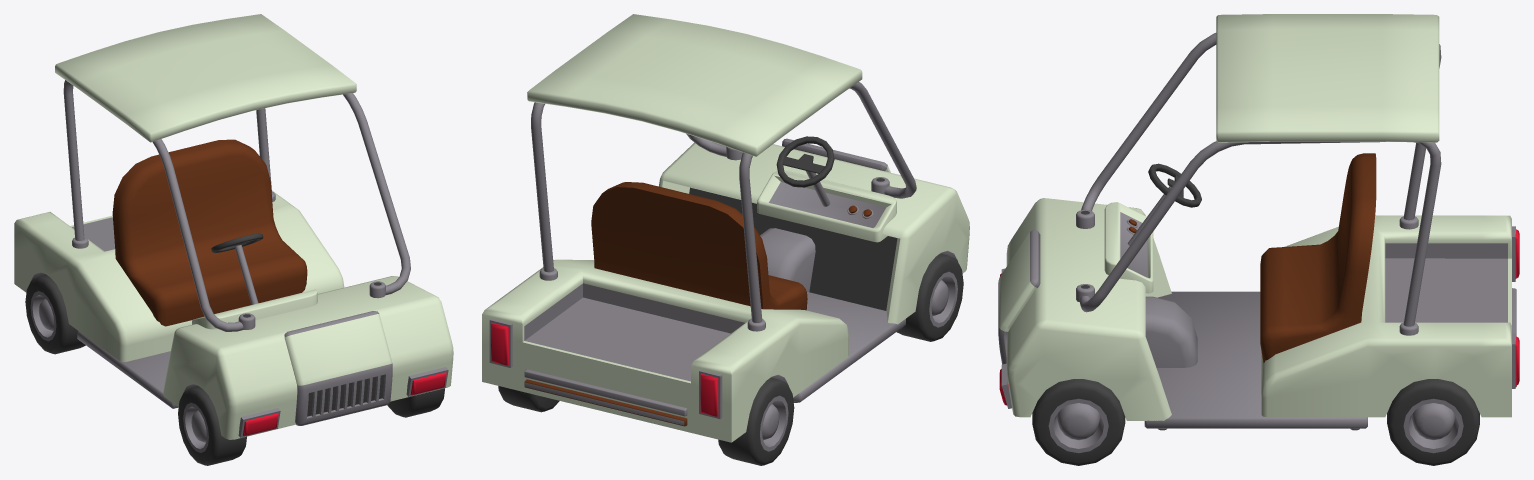
Rendered from golf-cart.glb.
3 views of the same model, side by side, from view 1: azimuth 30°, elevation 25°; view 2: azimuth 150°, elevation 25°; view 3: azimuth 270°, elevation 25° (orthographic). The views are drawn at different scales.
Visible parts, largest first — view 1: cart; view 2: cart; view 3: cart.
Boxes of the visible parts, x1=… form: cart: x1=14, y1=14, x2=453, y2=465; cart: x1=482, y1=14, x2=969, y2=465; cart: x1=998, y1=14, x2=1519, y2=465.
Size of the model in its own units: 1.49 by 1.8 by 2.5.
